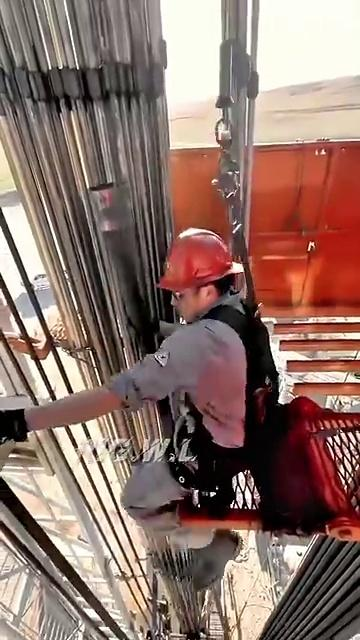gloves: (0, 406, 31, 461)
helmet: (152, 227, 247, 292)
shoes: (153, 540, 278, 602)
worker: (17, 200, 290, 602)
